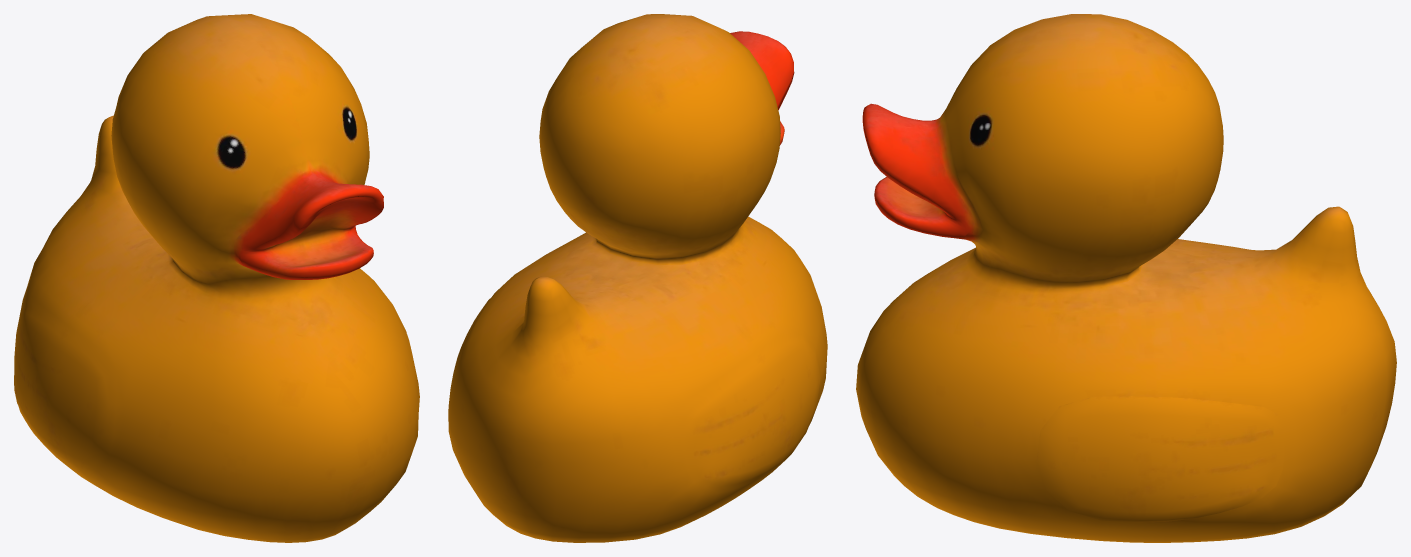
File: duck.glb
3 views of the same model, side by side, from view 1: azimuth 30°, elevation 25°; view 2: azimuth 150°, elevation 25°; view 3: azimuth 270°, elevation 25° (orthographic). The views are drawn at different scales.
Parts seen in each view (by area): view 1: rubber_duck_toy; view 2: rubber_duck_toy; view 3: rubber_duck_toy.
Boxes of the visible parts, x1=… form: rubber_duck_toy: x1=14, y1=14, x2=419, y2=542; rubber_duck_toy: x1=448, y1=14, x2=827, y2=542; rubber_duck_toy: x1=856, y1=14, x2=1396, y2=542.
Size of the model in its own units: 0.2135 by 0.2855 by 0.3.
1 material, 1 textured.
